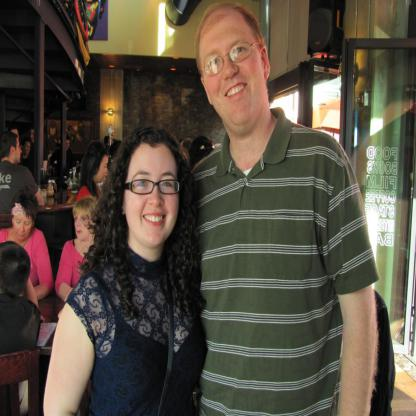face: (199, 13, 266, 124), (126, 147, 181, 246), (75, 209, 94, 240), (14, 212, 34, 241), (96, 158, 109, 183), (14, 143, 23, 163), (25, 145, 31, 156), (65, 141, 70, 150)
